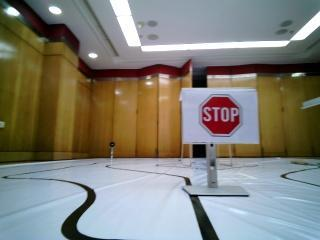stop: (181, 93, 253, 138)
